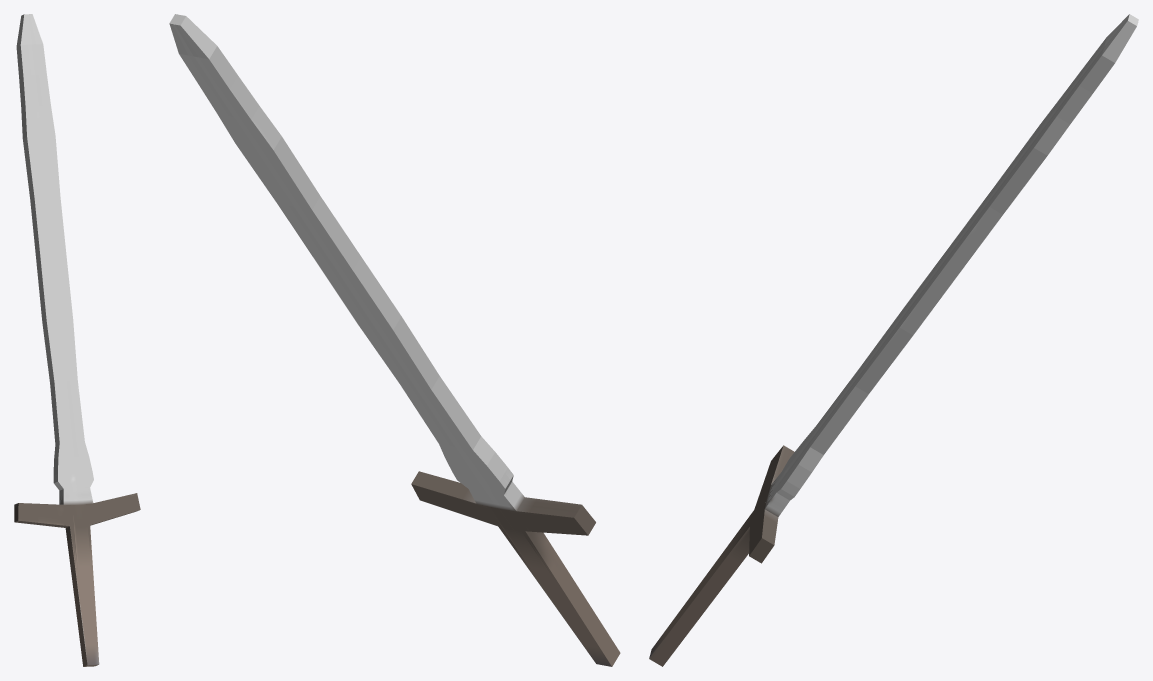
The model's file is sword_000055.obj.
3 views of the same model, side by side, from view 1: azimuth 30°, elevation 25°; view 2: azimuth 150°, elevation 25°; view 3: azimuth 270°, elevation 25° (orthographic). The views are drawn at different scales.
Bounding box in the file's own units: 0.1743 × 0.5937 × 0.367.
